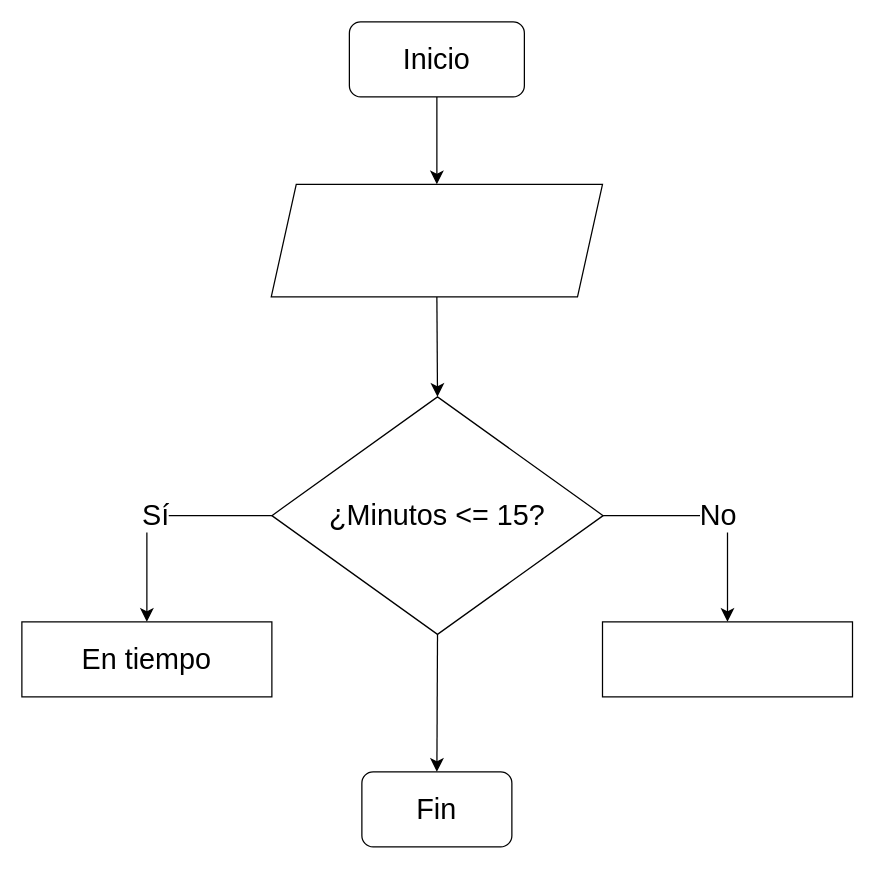
This 875x869 diagram has some shape labels left out. The centre of each missing label's shape, as x and y in pixels:
"Fuera de tiempo" belongs at (726,659).
"Leer minutos" belongs at (436,240).
